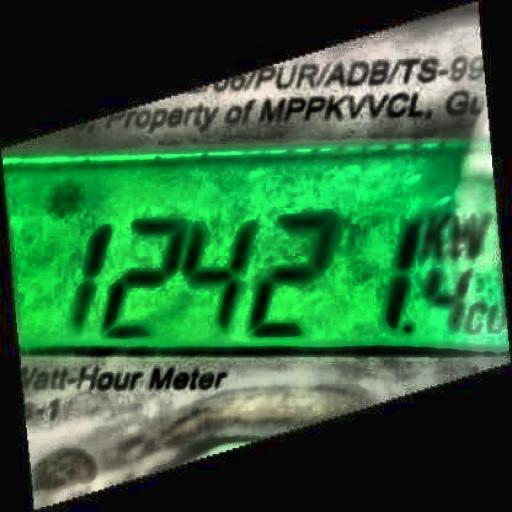DISPLAY_REGION: (3, 149, 512, 369)
SERIAL_REGION: (51, 203, 499, 343)
